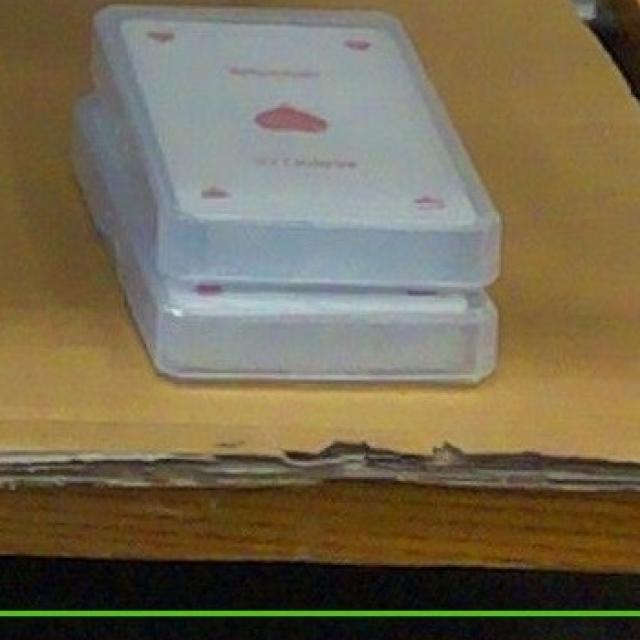Jasskarte: (79, 97, 496, 382), (93, 5, 499, 287)
